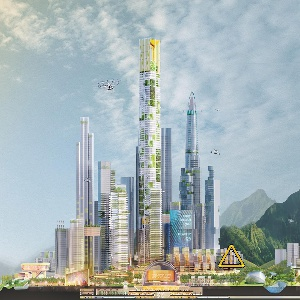triangle: (217, 242, 246, 270)
